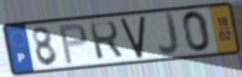0: (180, 10, 213, 54)
8: (31, 26, 60, 68)
J: (157, 11, 182, 58)
P: (57, 22, 89, 66)
R: (87, 20, 125, 62)
V: (119, 14, 147, 60)
